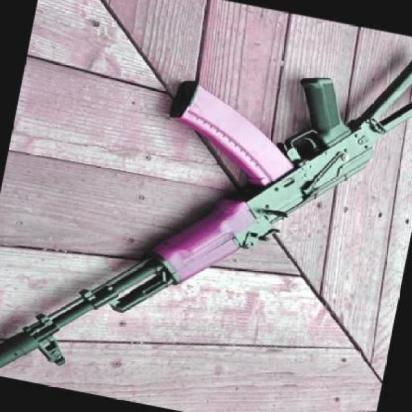Gun: (0, 71, 386, 363)
